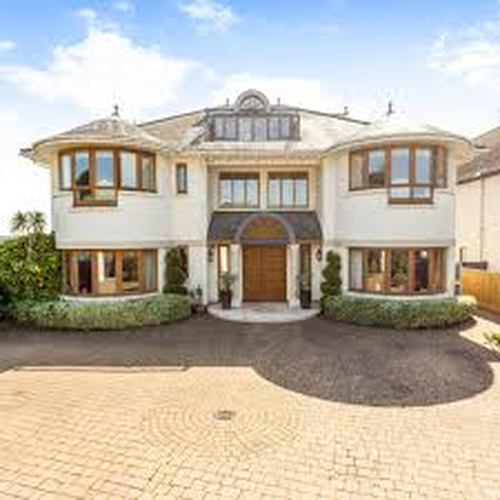Building House: (22, 93, 483, 346)
